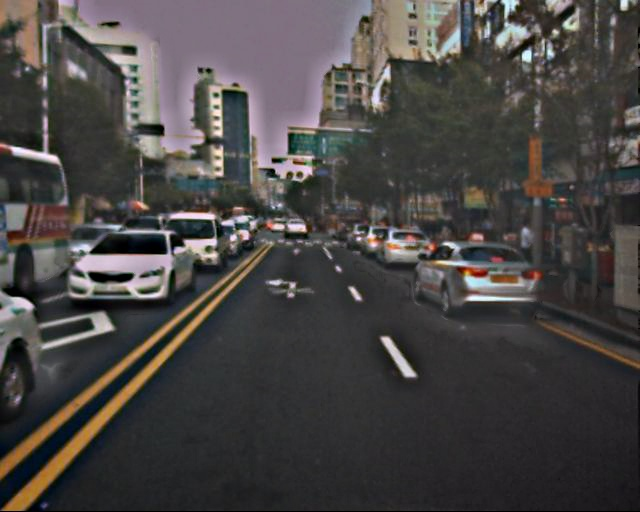person: (514, 219, 539, 279)
